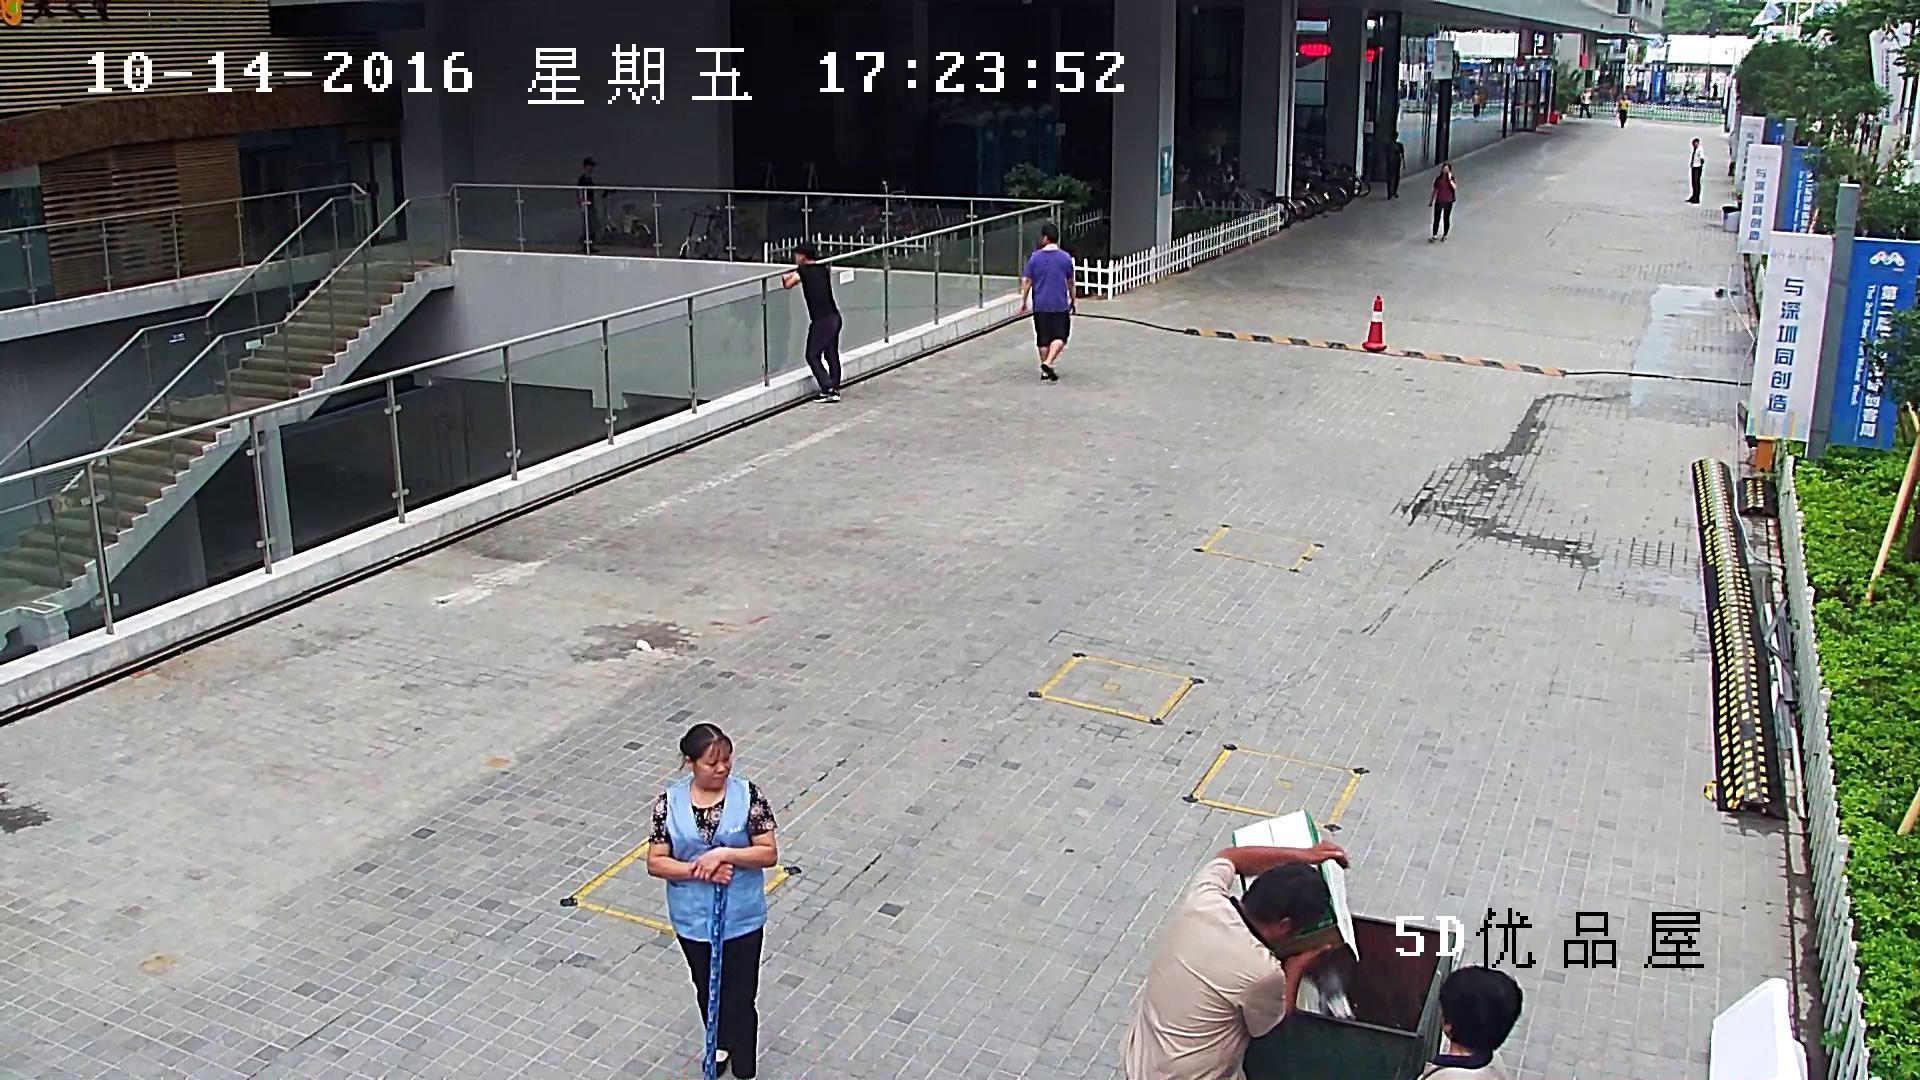person: (1119, 811, 1361, 1079), (1118, 842, 1349, 1080), (646, 724, 776, 1080), (649, 724, 776, 1080), (783, 241, 843, 403), (1020, 224, 1077, 382), (575, 156, 600, 252), (1429, 163, 1457, 244), (1385, 129, 1407, 198), (1686, 139, 1705, 204), (1578, 86, 1590, 119), (1618, 96, 1627, 127), (1473, 87, 1479, 117)
